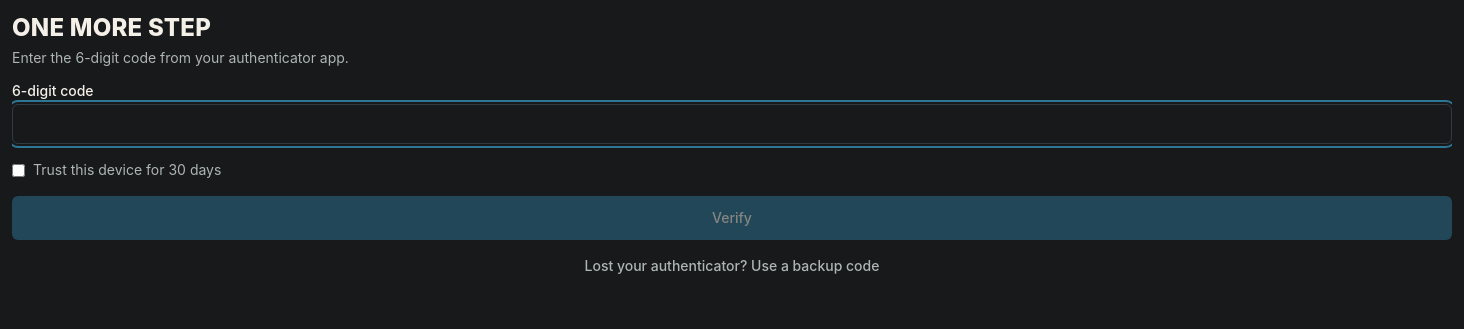
Test: switching modes › clears the code and the error, and swaps every mode-specific attribute
Type "123456" into the field labelled "6-digit code" at {"x": 732, "y": 124}, box left=12, top=104, right=1452, bottom=144
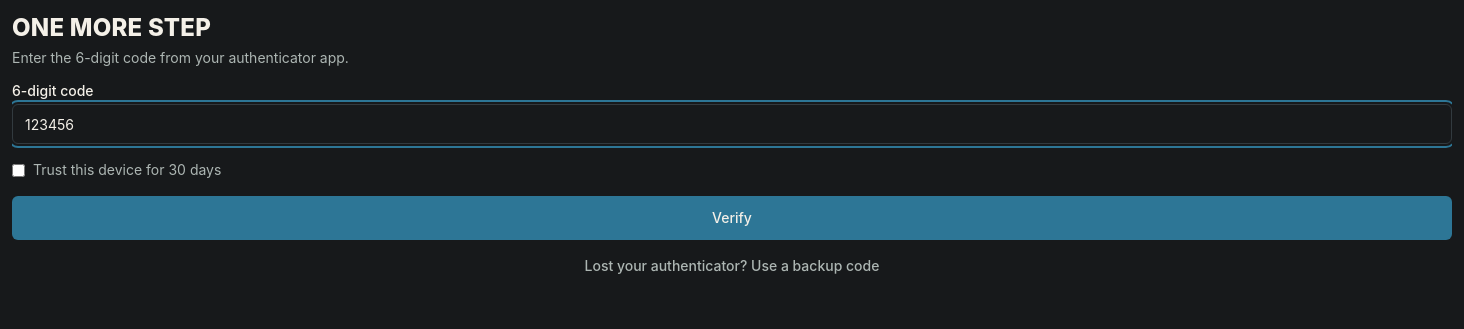
Click the button "Verify" at {"x": 732, "y": 218}, box left=12, top=196, right=1452, bottom=240
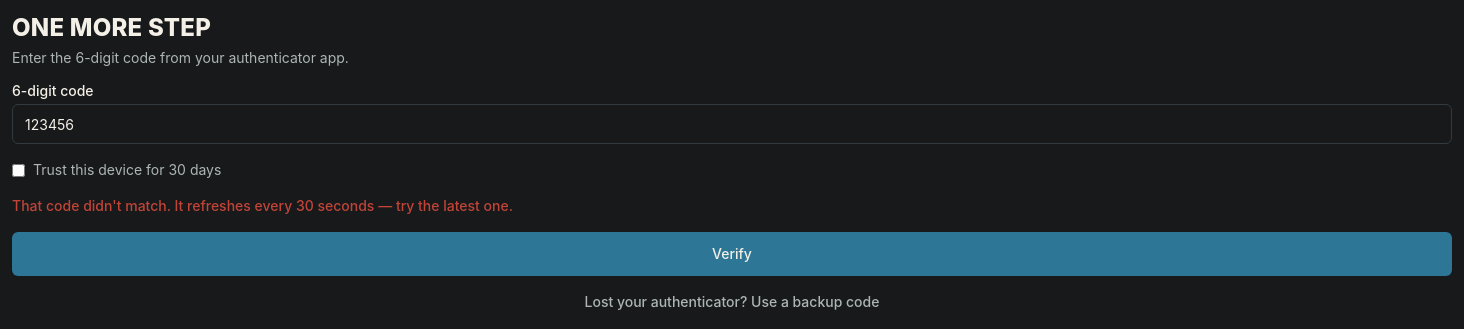
Check: the message "That code didn't match. It refreshes every 30 seconds — try the latest one." is shown, box left=12, top=197, right=513, bottom=214
Click the button "Lost your authenticator? Use a backup code" at {"x": 732, "y": 302}, box left=12, top=292, right=1452, bottom=312
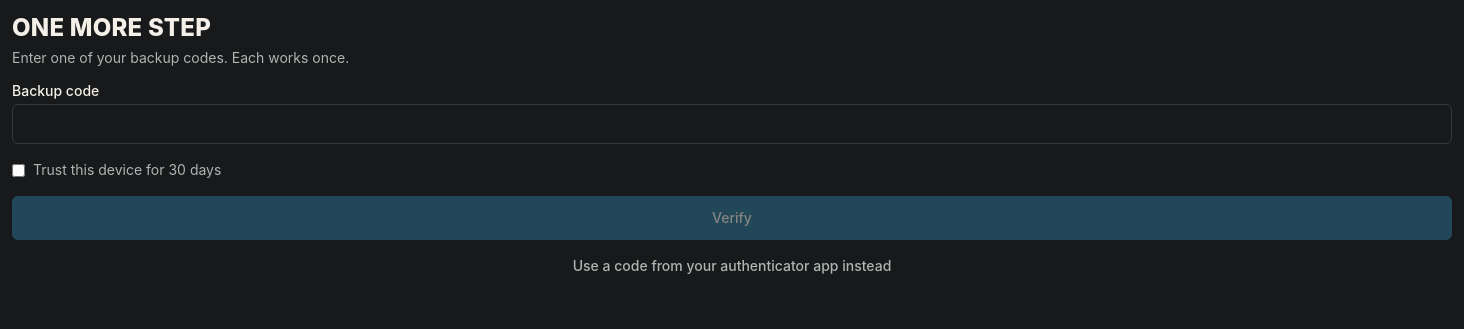
Check: the field labelled "Backup code" is empty, box left=12, top=104, right=1452, bottom=144
Check: the message "That code didn't match. It refreshes every 30 seconds — try the latest one." is gone
Check: the text "Enter one of your backup codes. Each works once." is shown, box left=12, top=49, right=349, bottom=66
Click the button "Use a code from your authenticator app instead" at {"x": 732, "y": 266}, box left=12, top=256, right=1452, bottom=276
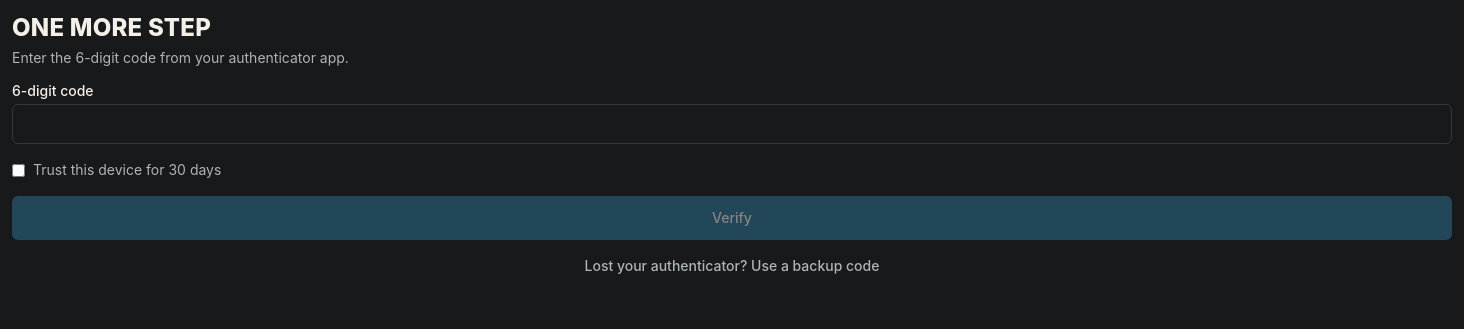
Check: the text "Enter the 6-digit code from your authenticator app." is shown, box left=12, top=49, right=349, bottom=66
